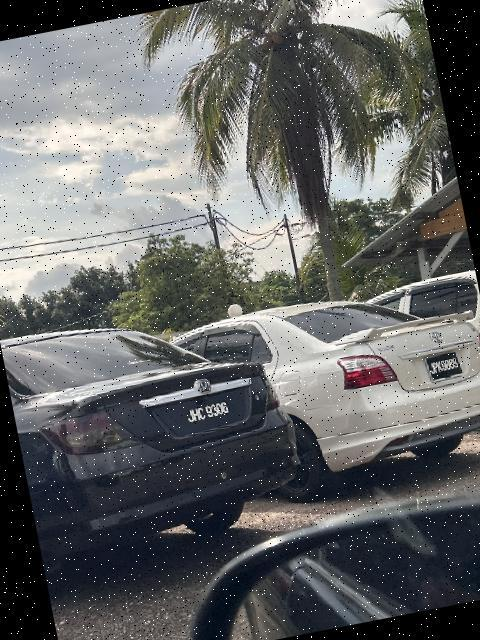JHC9306: (165, 387, 252, 437)
JPK9868: (423, 348, 466, 385)
License_Plate: (165, 387, 252, 437), (423, 348, 466, 385)
car: (1, 279, 317, 579), (166, 266, 480, 520)
